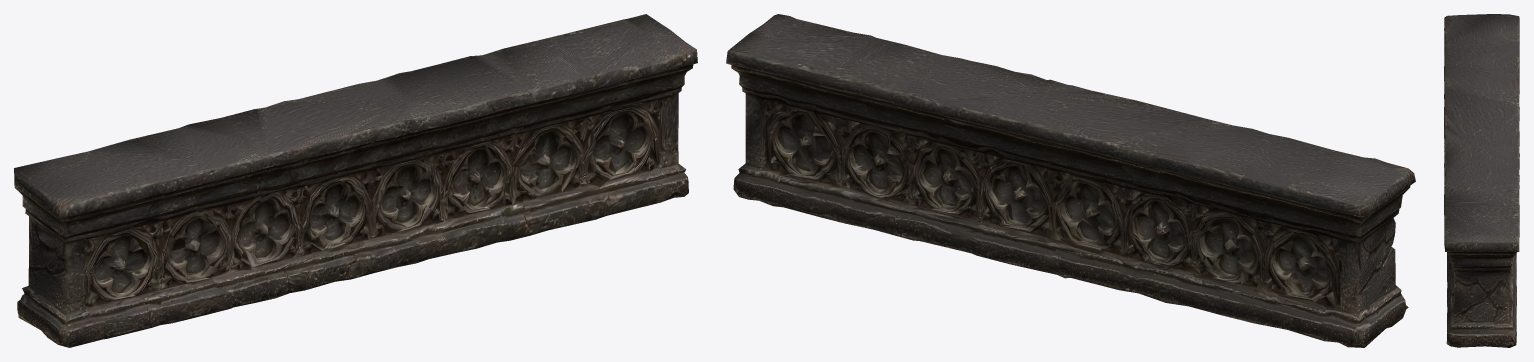
Rendered from lintel2.glb.
3 views of the same model, side by side, from view 1: azimuth 30°, elevation 25°; view 2: azimuth 150°, elevation 25°; view 3: azimuth 270°, elevation 25° (orthographic). The views are drawn at different scales.
Parts seen in each view (by area): view 1: lintel2; view 2: lintel2; view 3: lintel2.
Boxes of the visible parts, x1,y1,x2,y2 form: lintel2: (14, 14, 697, 347); lintel2: (726, 14, 1415, 347); lintel2: (1444, 14, 1519, 347).
Size of the model in its own units: 5 by 1.1 by 0.7.
Materials: 1 (1 with a texture image).
